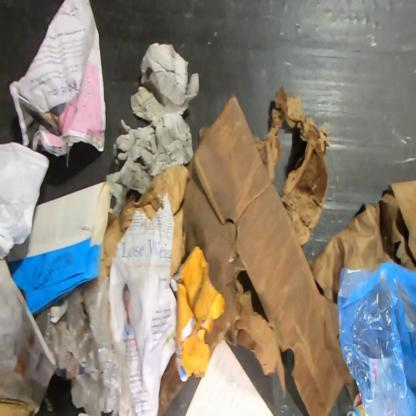cardboard: (193, 90, 360, 415), (253, 83, 331, 247), (100, 163, 190, 276), (170, 244, 228, 385), (233, 276, 286, 400), (0, 398, 38, 415)
soft_plastic: (336, 260, 415, 415), (42, 275, 128, 415)
